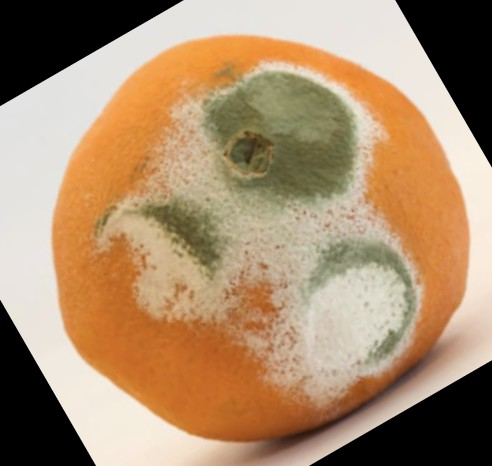rotten_orange: (53, 35, 470, 442)
